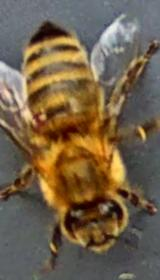varroa_mite: (20, 102, 56, 126)
